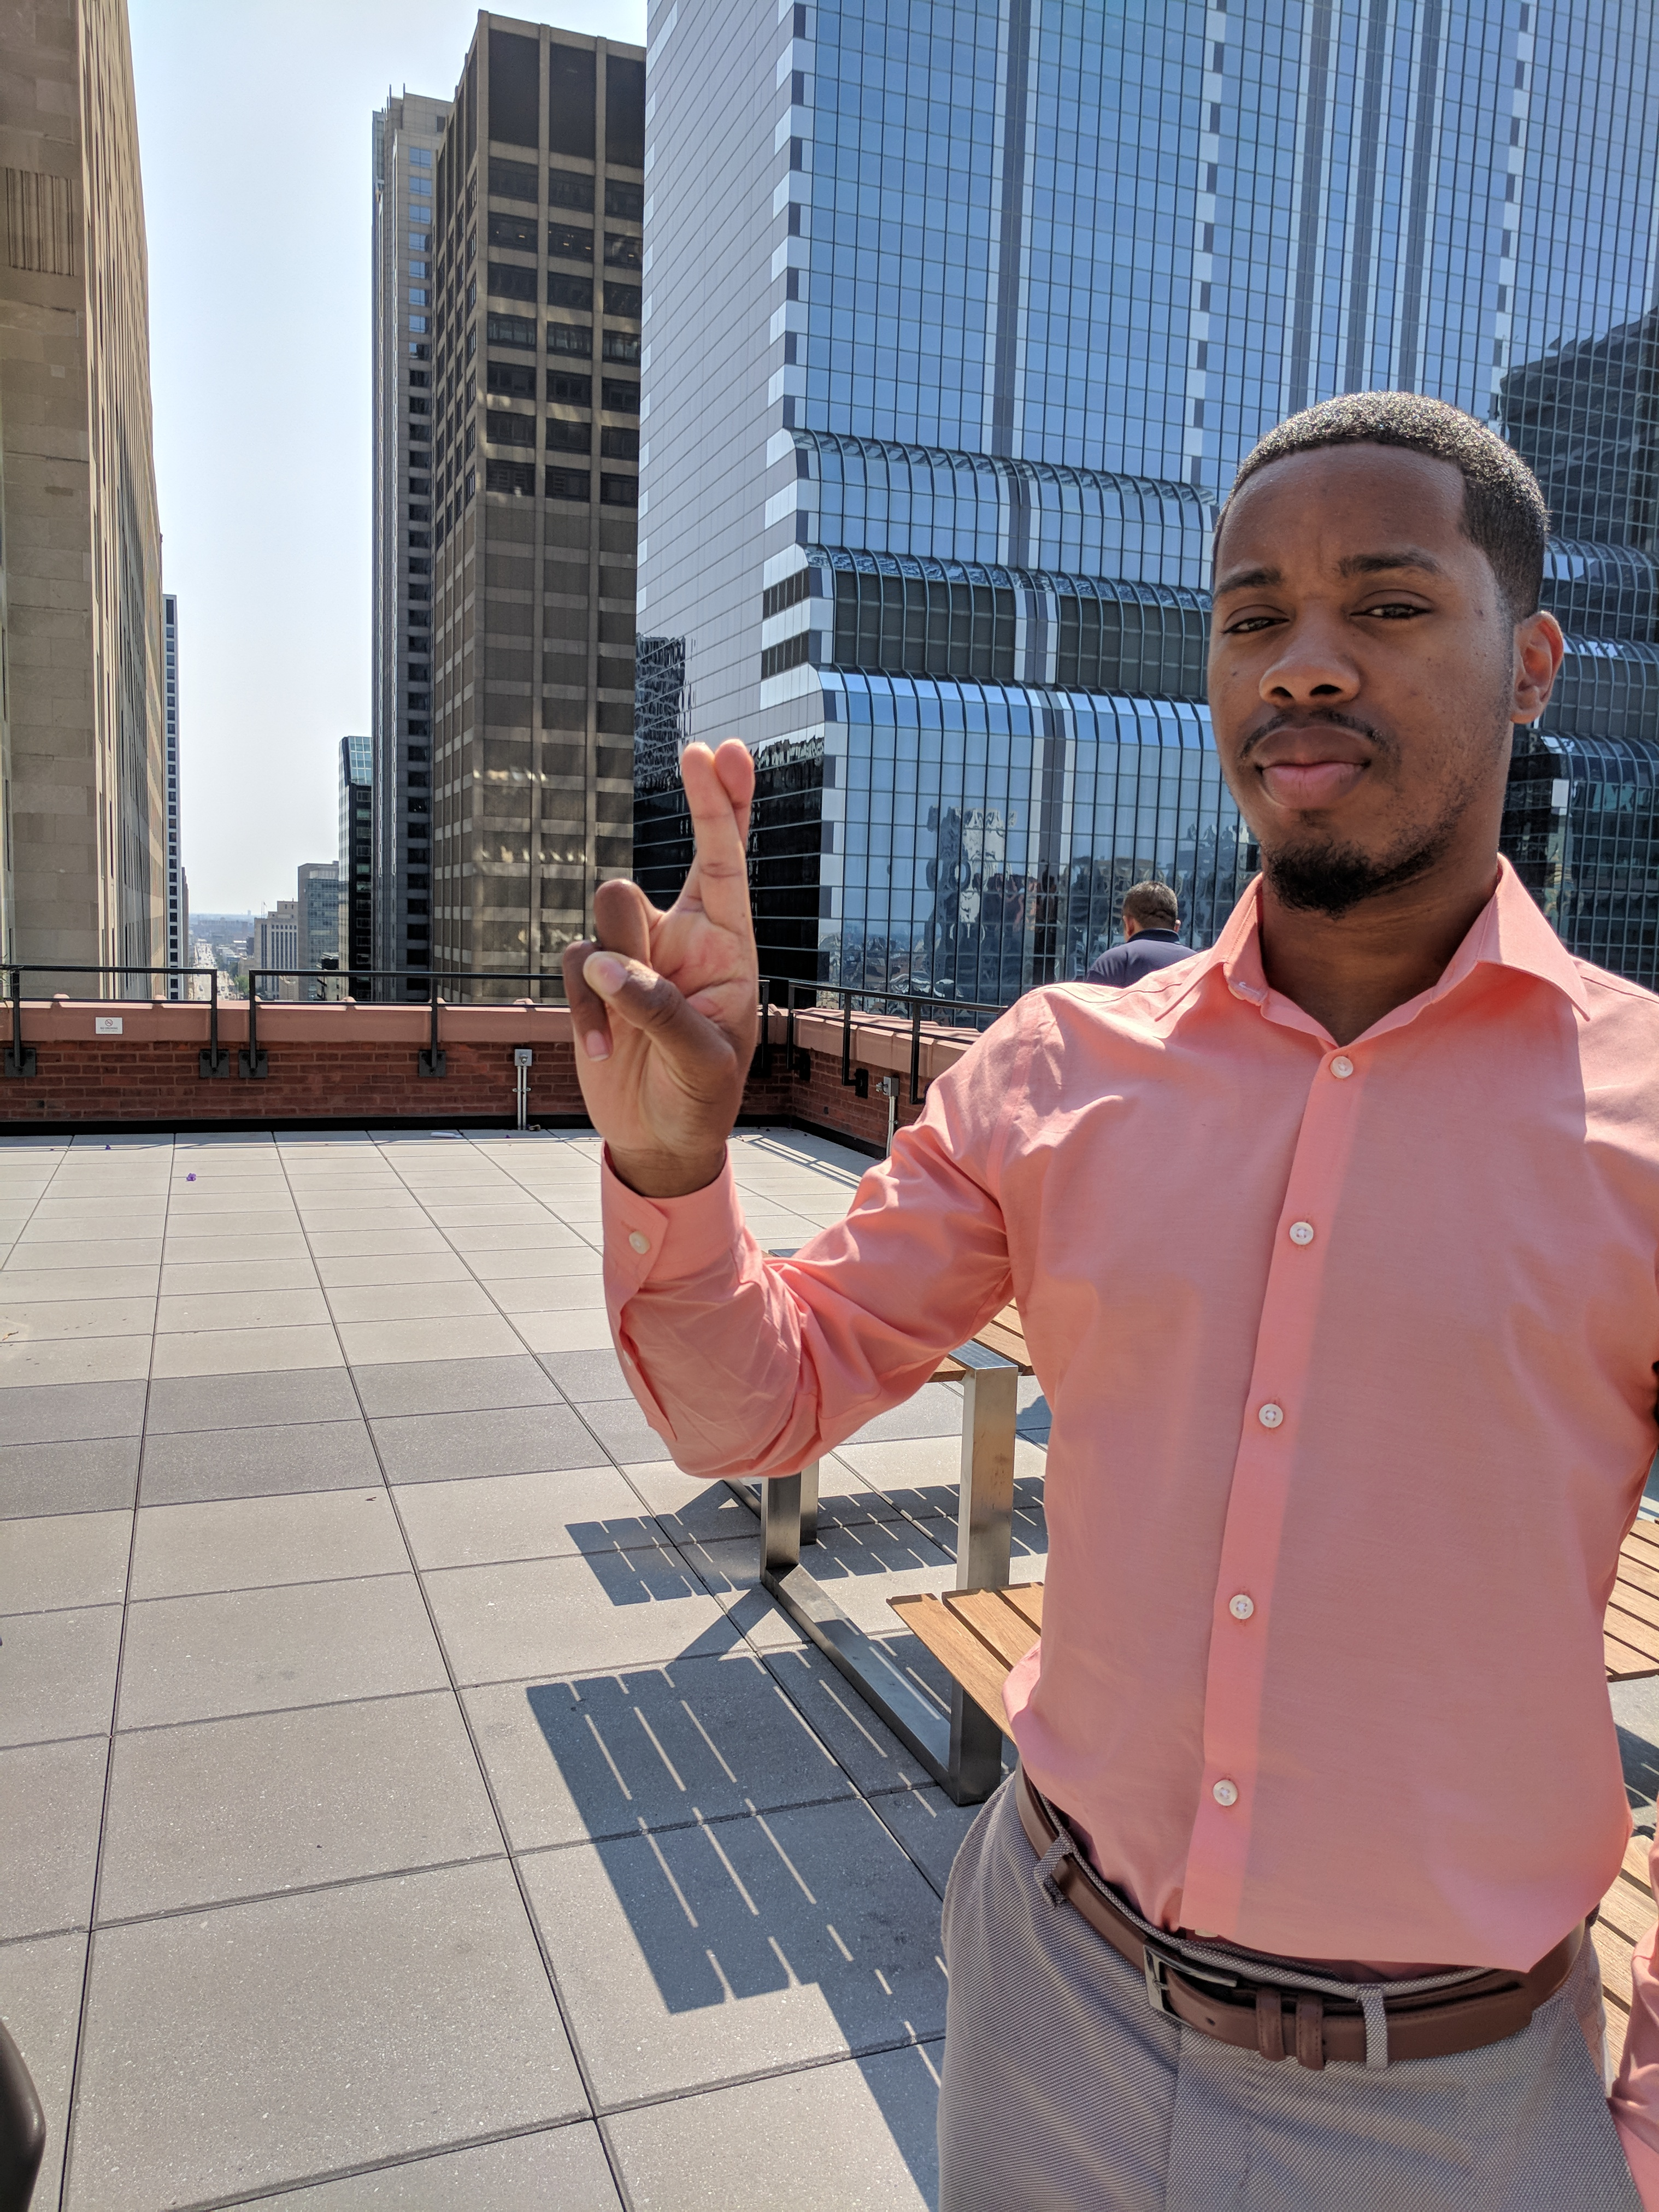r: (565, 738, 784, 1169)
